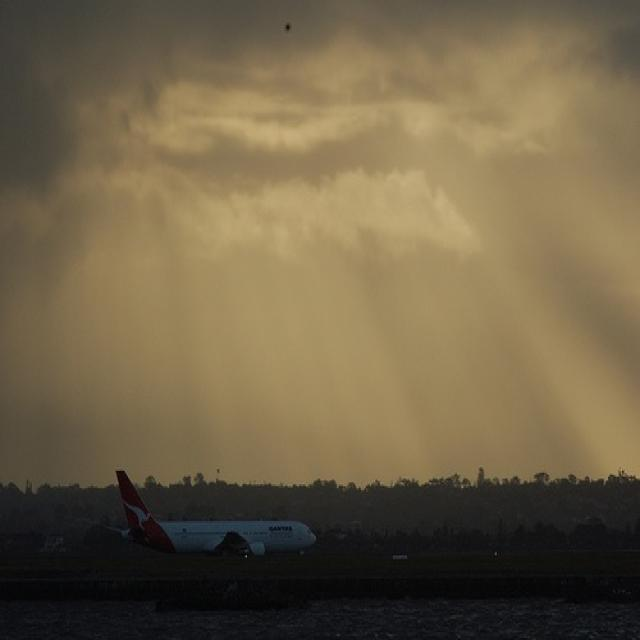aeroplane: (111, 465, 318, 579)
